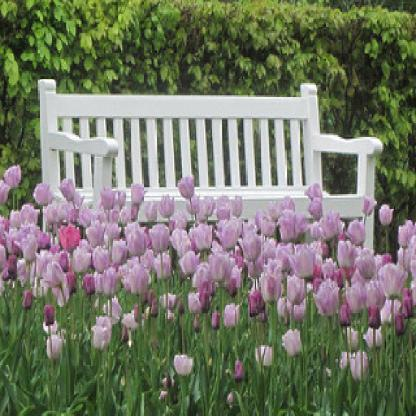TULIP: (9, 147, 408, 408)
